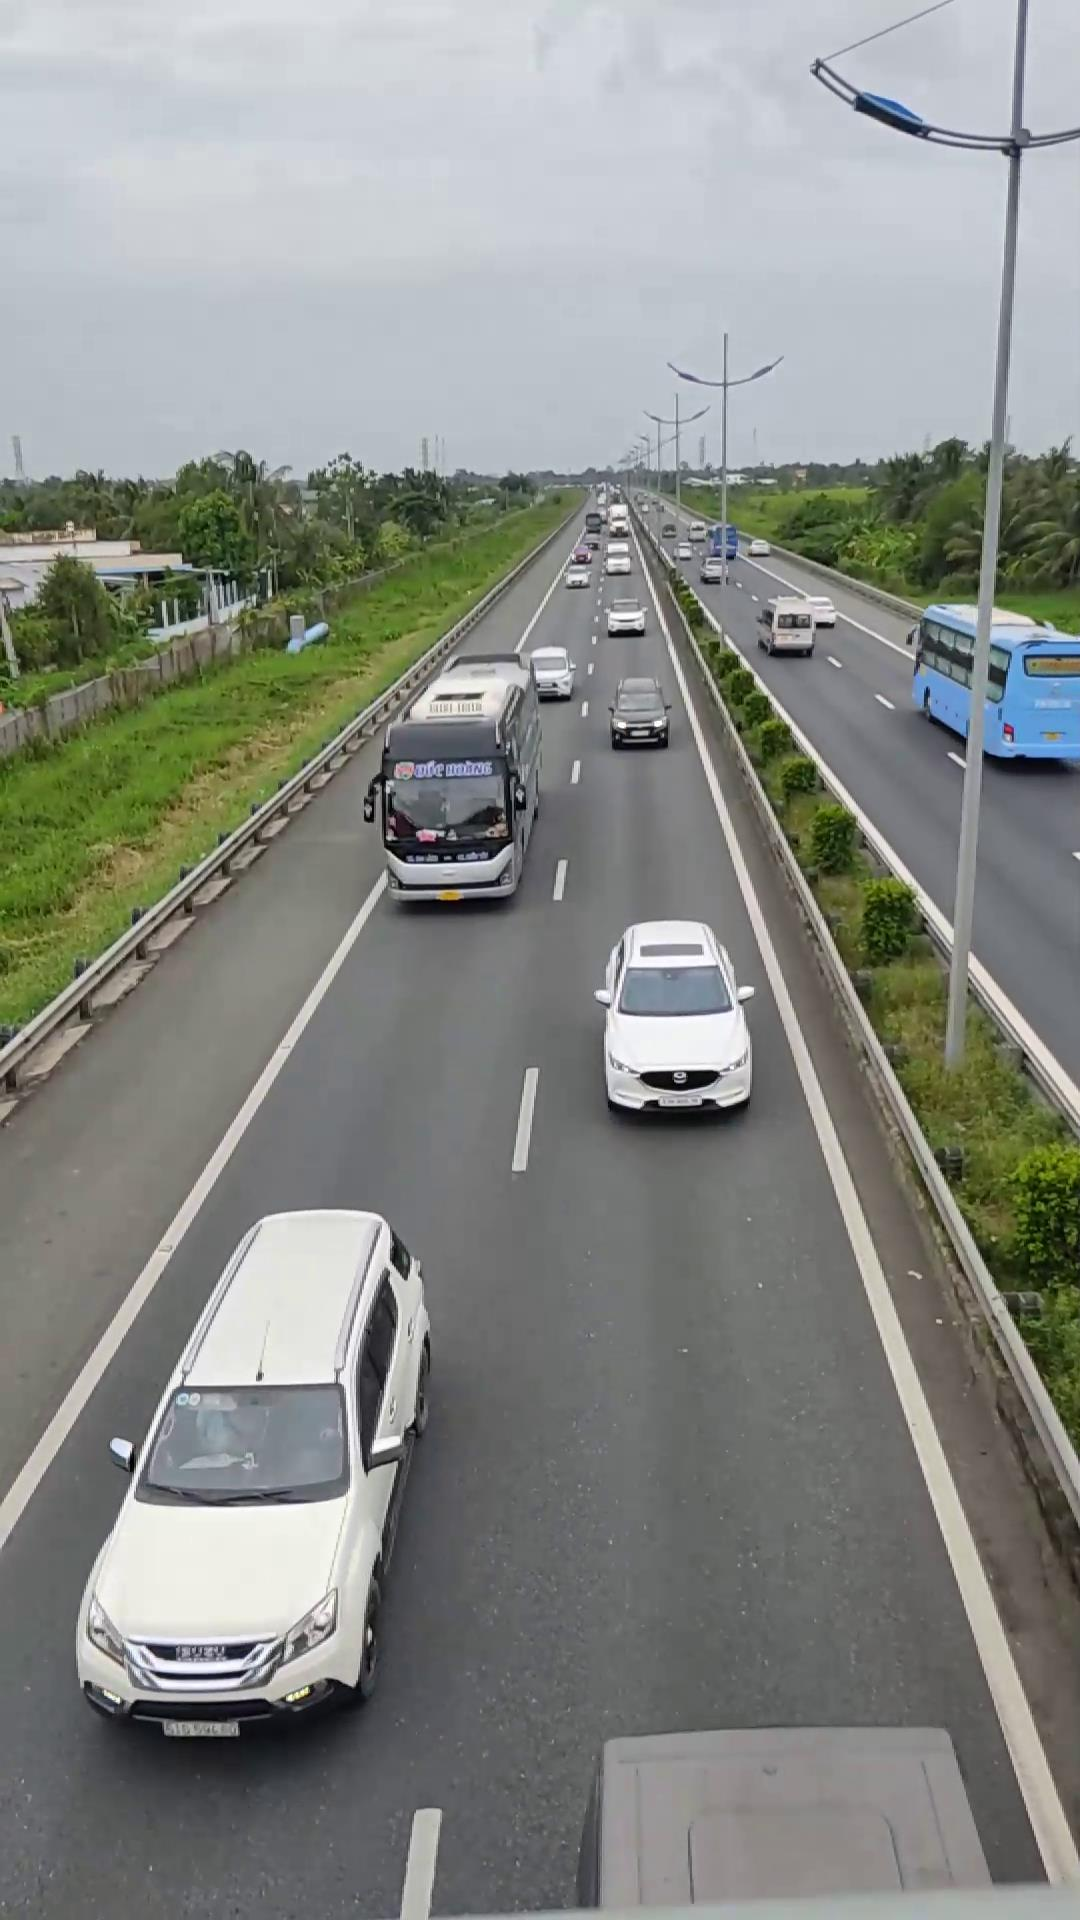bus: (371, 654, 542, 905)
car: (69, 1204, 434, 1735), (593, 918, 757, 1117), (607, 676, 673, 746)
